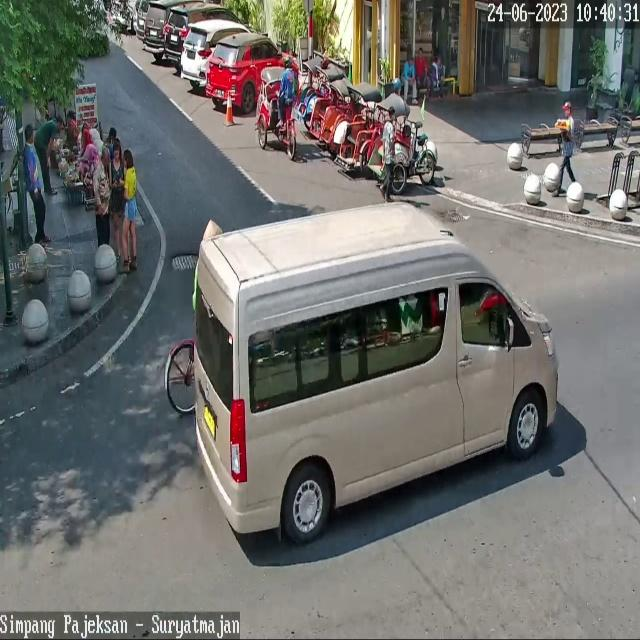car: (193, 201, 557, 543)
motorcycle: (206, 34, 300, 114), (180, 21, 252, 88), (163, 3, 246, 60), (143, 0, 169, 53)
